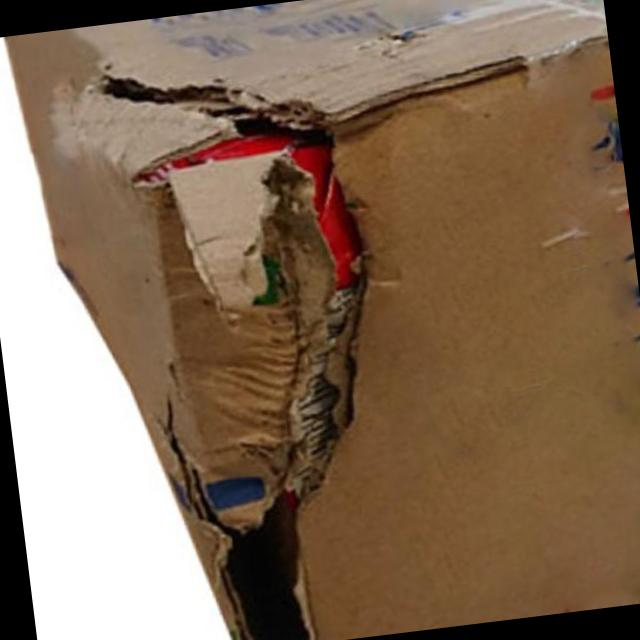box: (304, 265, 593, 618)
